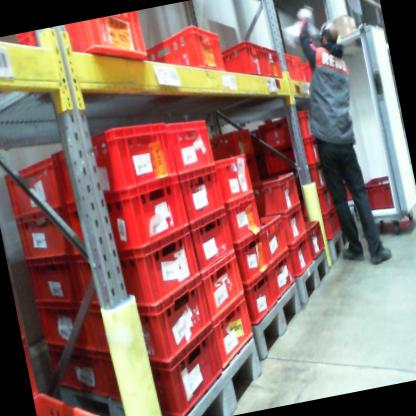pallet: (148, 329, 274, 416), (243, 277, 311, 367), (286, 242, 341, 316), (320, 216, 358, 268)
small_load_carrier: (69, 218, 213, 329), (83, 271, 222, 381), (50, 114, 180, 211), (98, 325, 232, 416), (60, 171, 191, 262), (15, 11, 151, 85), (141, 15, 229, 88), (20, 246, 85, 324), (7, 204, 75, 274), (0, 146, 65, 219), (47, 336, 111, 408), (195, 246, 247, 328), (207, 293, 261, 371), (170, 155, 227, 223), (34, 297, 96, 356), (32, 368, 108, 416), (183, 207, 236, 275), (221, 33, 285, 89), (168, 115, 216, 177), (252, 168, 307, 220), (219, 181, 264, 242), (211, 142, 257, 201), (243, 269, 285, 330), (232, 228, 272, 292), (268, 241, 308, 303), (359, 166, 401, 217), (258, 210, 294, 268), (207, 121, 255, 163), (286, 228, 319, 283), (277, 107, 320, 146), (278, 200, 310, 250), (300, 50, 332, 96), (304, 211, 328, 265), (276, 45, 305, 89), (310, 182, 343, 219), (257, 114, 288, 153), (294, 133, 325, 171), (262, 144, 298, 175), (320, 206, 347, 245), (304, 160, 327, 192), (247, 156, 265, 185)
